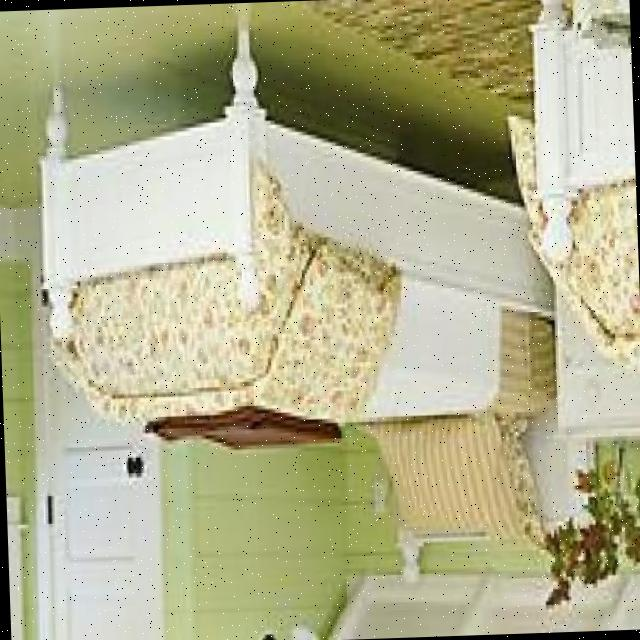Bed: (18, 10, 599, 607)
